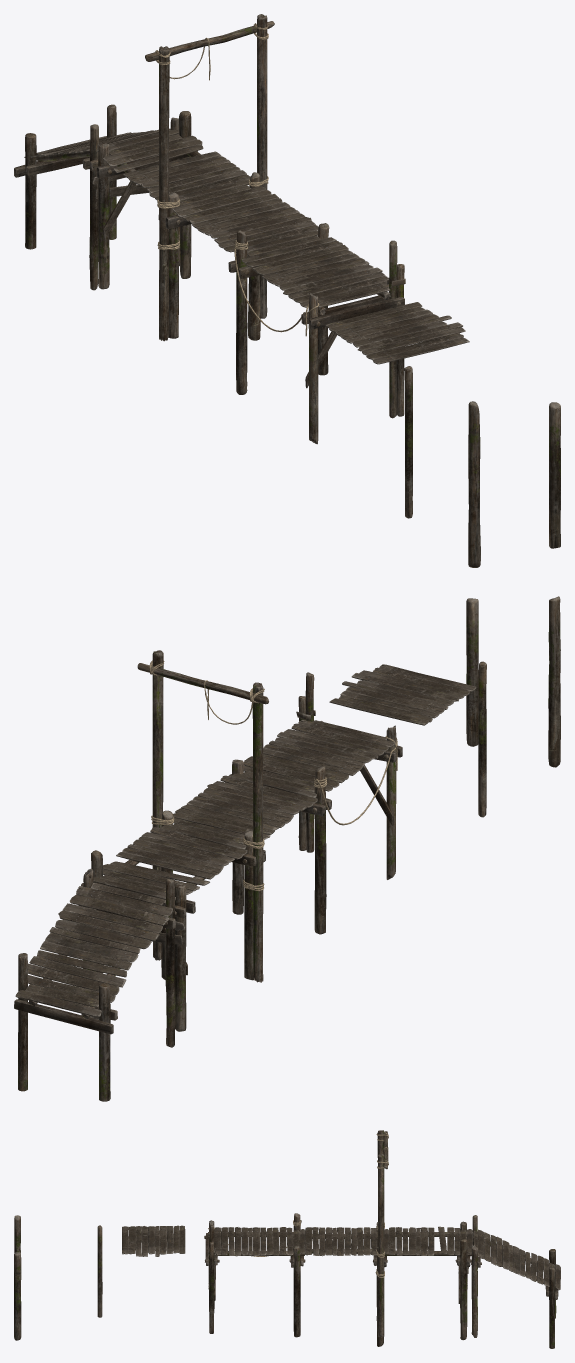
Rendered from modular_wooden_pier.gltf.
3 renders of one model, top to bottom at view 1: azimuth 30°, elevation 25°; view 2: azimuth 150°, elevation 25°; view 3: azimuth 270°, elevation 25°, orthographic. The views are drawn at different scales.
Parts seen in each view (by area): view 1: modular_wooden_pier_section_01, modular_wooden_pier_section_03, modular_wooden_pier_section_02, modular_wooden_pier_section_05, modular_wooden_pier_section_04, modular_wooden_pier_planks, modular_wooden_pier_poles; view 2: modular_wooden_pier_section_04, modular_wooden_pier_section_01, modular_wooden_pier_section_03, modular_wooden_pier_section_02, modular_wooden_pier_section_05, modular_wooden_pier_poles, modular_wooden_pier_planks; view 3: modular_wooden_pier_section_01, modular_wooden_pier_section_04, modular_wooden_pier_section_03, modular_wooden_pier_section_02, modular_wooden_pier_planks, modular_wooden_pier_section_05, modular_wooden_pier_poles.
Part boxes in pixels (x1,y1,x2,y2): modular_wooden_pier_section_01: [228, 223, 405, 444]; modular_wooden_pier_section_03: [89, 111, 250, 289]; modular_wooden_pier_section_02: [158, 172, 318, 340]; modular_wooden_pier_section_05: [145, 14, 274, 341]; modular_wooden_pier_section_04: [14, 104, 179, 290]; modular_wooden_pier_planks: [325, 302, 469, 364]; modular_wooden_pier_poles: [404, 366, 560, 567]; modular_wooden_pier_section_04: [14, 868, 175, 1101]; modular_wooden_pier_section_01: [225, 672, 402, 934]; modular_wooden_pier_section_03: [81, 827, 247, 1031]; modular_wooden_pier_section_02: [160, 775, 317, 980]; modular_wooden_pier_section_05: [137, 650, 268, 982]; modular_wooden_pier_poles: [466, 596, 560, 817]; modular_wooden_pier_planks: [329, 664, 476, 725]; modular_wooden_pier_section_01: [204, 1213, 305, 1337]; modular_wooden_pier_section_04: [471, 1215, 560, 1348]; modular_wooden_pier_section_03: [376, 1221, 473, 1340]; modular_wooden_pier_section_02: [292, 1222, 389, 1346]; modular_wooden_pier_planks: [122, 1225, 185, 1256]; modular_wooden_pier_section_05: [375, 1130, 388, 1337]; modular_wooden_pier_poles: [14, 1215, 102, 1340].
Bounding box in the file's own units: 3.1 × 7.52 × 19.03.
Materials: 2 (2 with a texture image).
